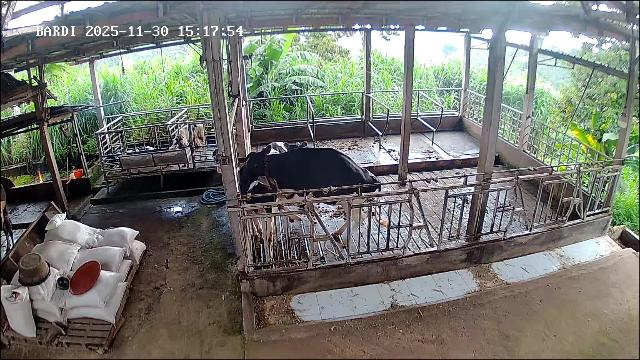mounting: (240, 147, 374, 258)
